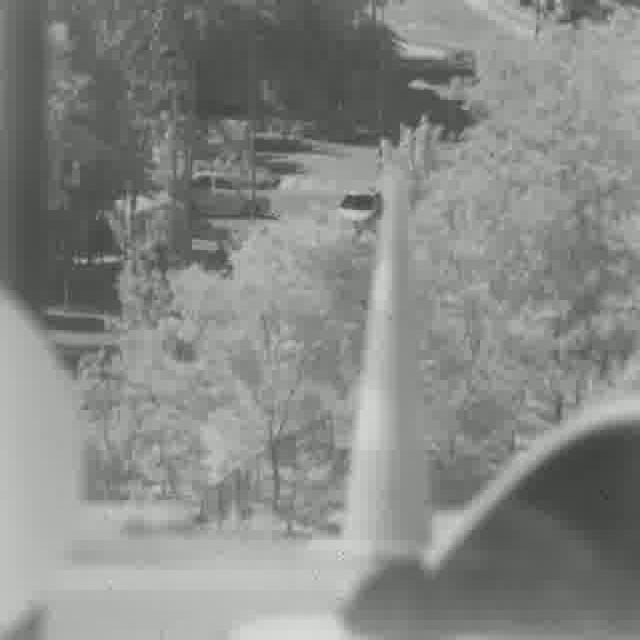Car: (333, 185, 383, 234)
